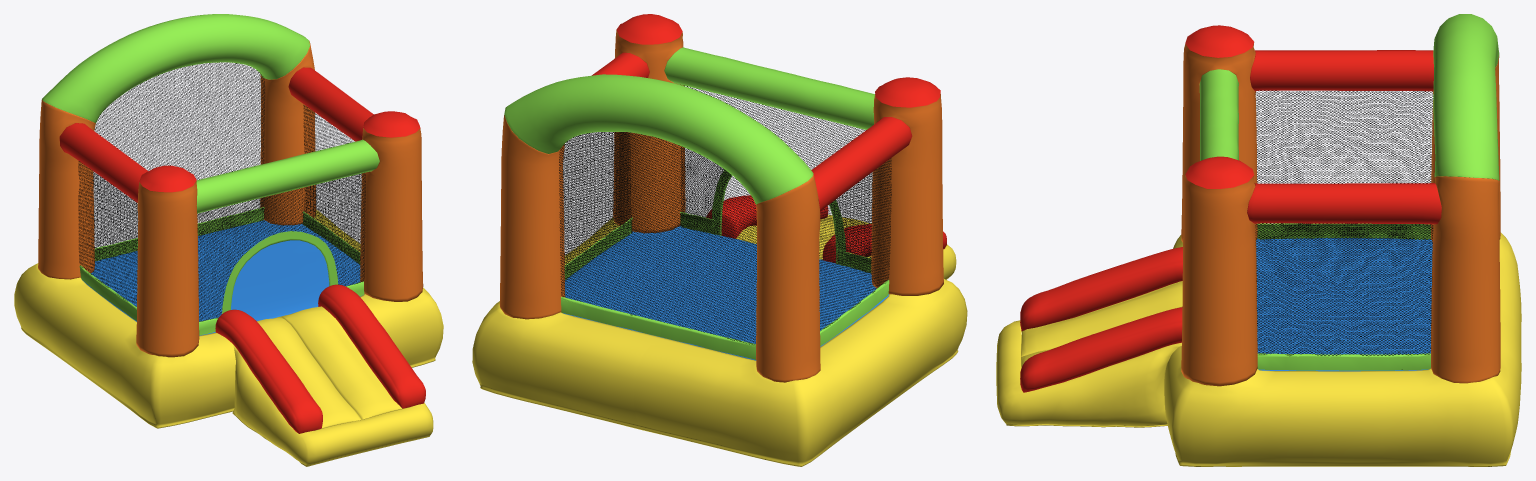
3 views of the same model, side by side, from view 1: azimuth 30°, elevation 25°; view 2: azimuth 150°, elevation 25°; view 3: azimuth 270°, elevation 25° (orthographic). The views are drawn at different scales.
Visible parts, largest first — view 1: tentCastle_02, tentCastle_03, tentCastle_01; view 2: tentCastle_03, tentCastle_02, tentCastle_01; view 3: tentCastle_02, tentCastle_03, tentCastle_01.
Part boxes in pixels (x1,y1,x2,y2): tentCastle_02: (59,62,423,357); tentCastle_03: (14,14,443,428); tentCastle_01: (82,220,433,466); tentCastle_03: (472,74,967,466); tentCastle_02: (559,14,943,359); tentCastle_01: (563,195,956,360); tentCastle_02: (1181,25,1441,386); tentCastle_03: (1164,14,1521,466); tentCastle_01: (996,238,1432,427).
Bounding box in the file's own units: 2.14 × 1.97 × 2.66.
Materials: 3 (3 with a texture image).
